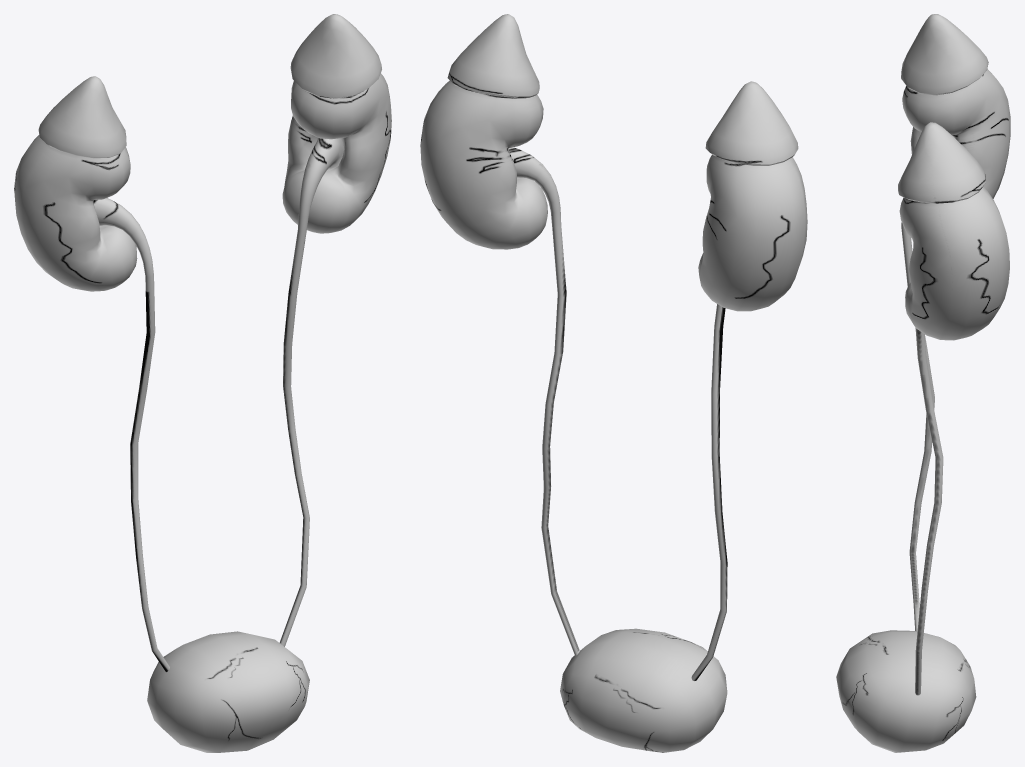
The model's file is UrinarySystem_ar.fbx.
3 renders of one model, left to right at view 1: azimuth 30°, elevation 25°; view 2: azimuth 150°, elevation 25°; view 3: azimuth 270°, elevation 25°, orthographic. The views are drawn at different scales.
Parts seen in each view (by area): view 1: UrinarySystem1; view 2: UrinarySystem1; view 3: UrinarySystem1.
Part boxes in pixels (left/top/right/bottom): UrinarySystem1: left=14, top=14, right=391, bottom=752; UrinarySystem1: left=420, top=14, right=807, bottom=752; UrinarySystem1: left=836, top=14, right=1010, bottom=752.
Size of the model in its own units: 5.95 by 10.77 by 2.51.
1 material, 1 textured.
